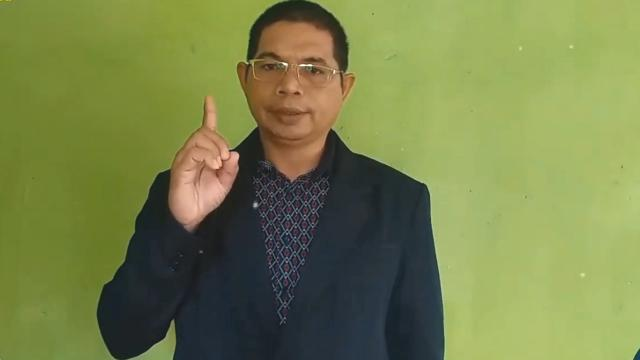D: (169, 93, 239, 214)
